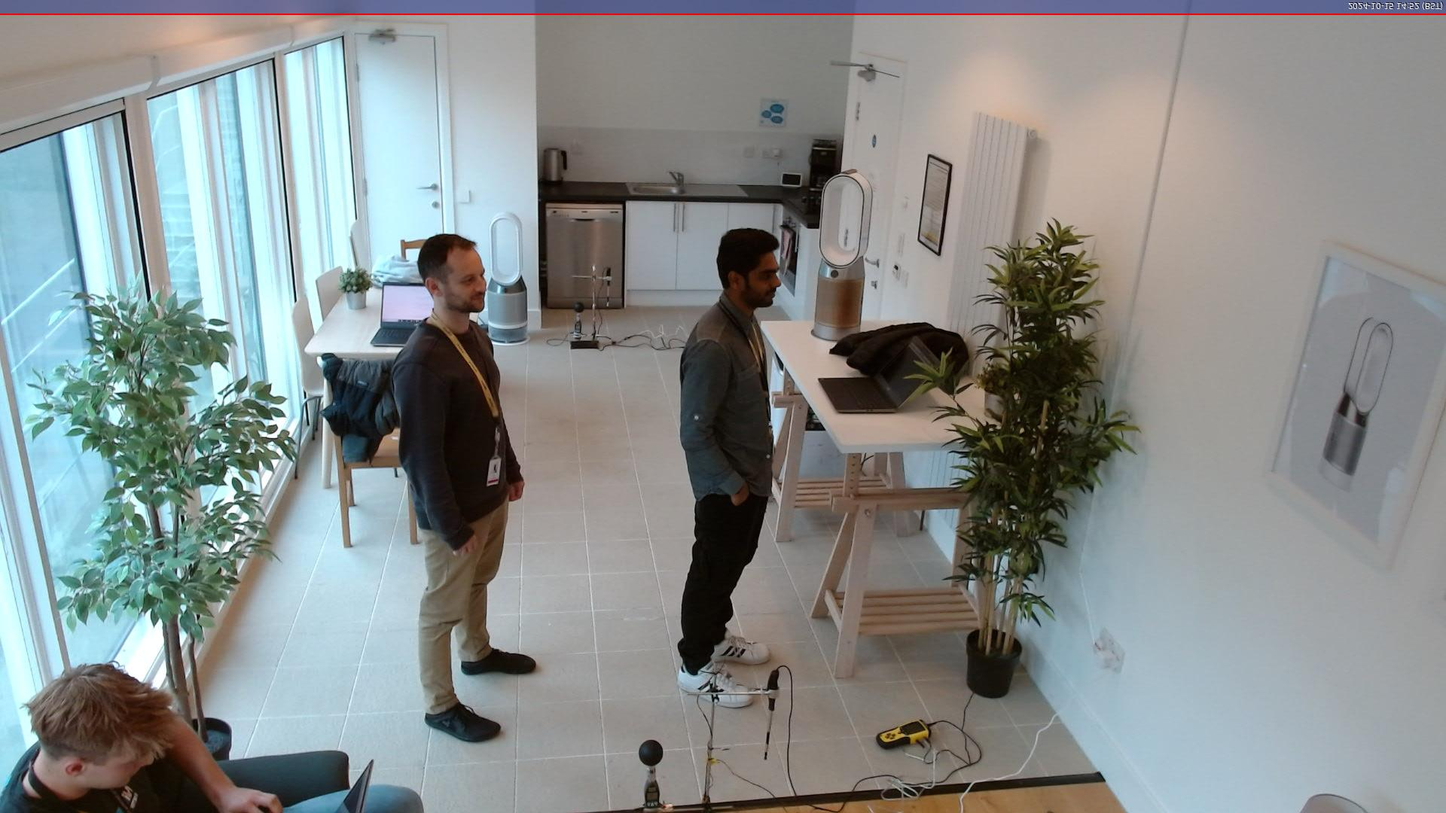long sleeve shirt: (678, 289, 778, 505)
short sleeve shirt: (0, 723, 177, 813)
sweater: (389, 313, 527, 550)
trousers: (414, 495, 513, 719), (677, 490, 768, 674), (272, 781, 428, 813)
